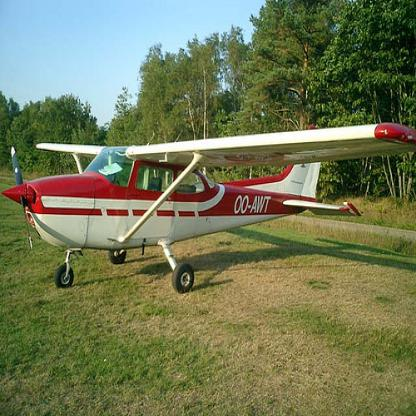aeroplane: (1, 123, 414, 294)
